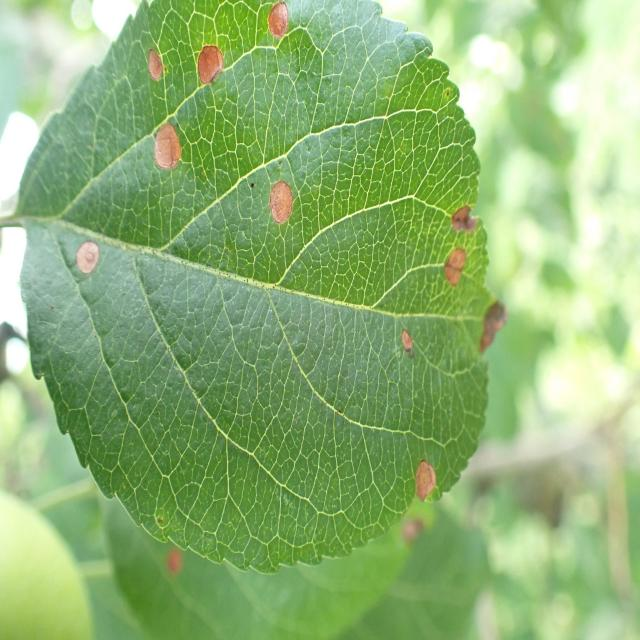Black Rot: (398, 428, 449, 548), (61, 225, 122, 309), (145, 111, 204, 192), (264, 143, 303, 254), (474, 285, 517, 385), (384, 307, 437, 379), (251, 0, 315, 54), (197, 28, 233, 111), (434, 183, 481, 242), (442, 238, 474, 308), (138, 35, 169, 106)
